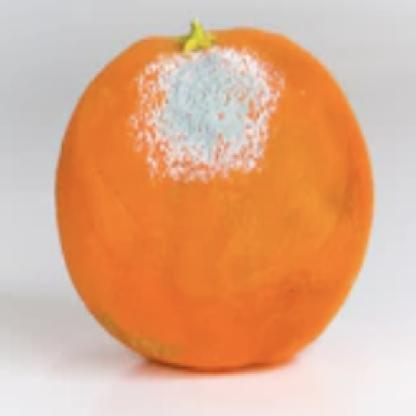rotten: (56, 27, 376, 374)
